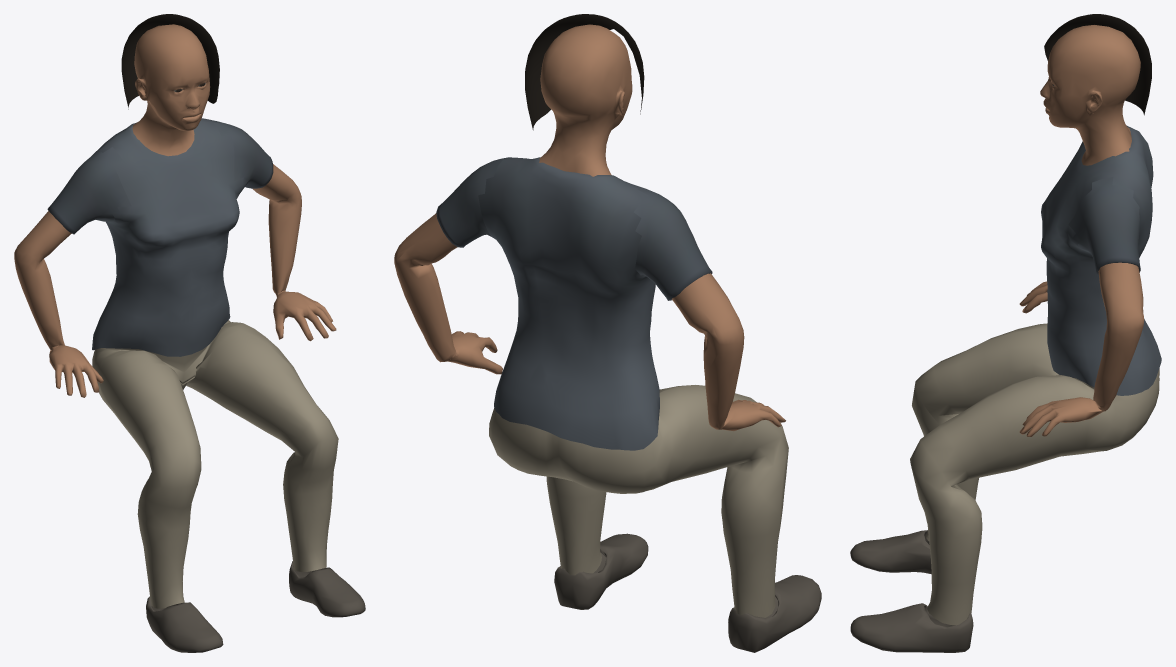
File: participant-21-middle.glb
3 renders of one model, left to right at view 1: azimuth 30°, elevation 25°; view 2: azimuth 150°, elevation 25°; view 3: azimuth 270°, elevation 25°, orthographic. The views are drawn at different scales.
Visible parts, largest first — view 1: Participant anatomy and ordinary clothes; view 2: Participant anatomy and ordinary clothes; view 3: Participant anatomy and ordinary clothes.
Part boxes in pixels (x1,y1,x2,y2): Participant anatomy and ordinary clothes: (14,14,365,652); Participant anatomy and ordinary clothes: (394,14,821,652); Participant anatomy and ordinary clothes: (850,14,1161,652).
Size of the model in its own units: 0.7329 by 1.36 by 0.6478.
